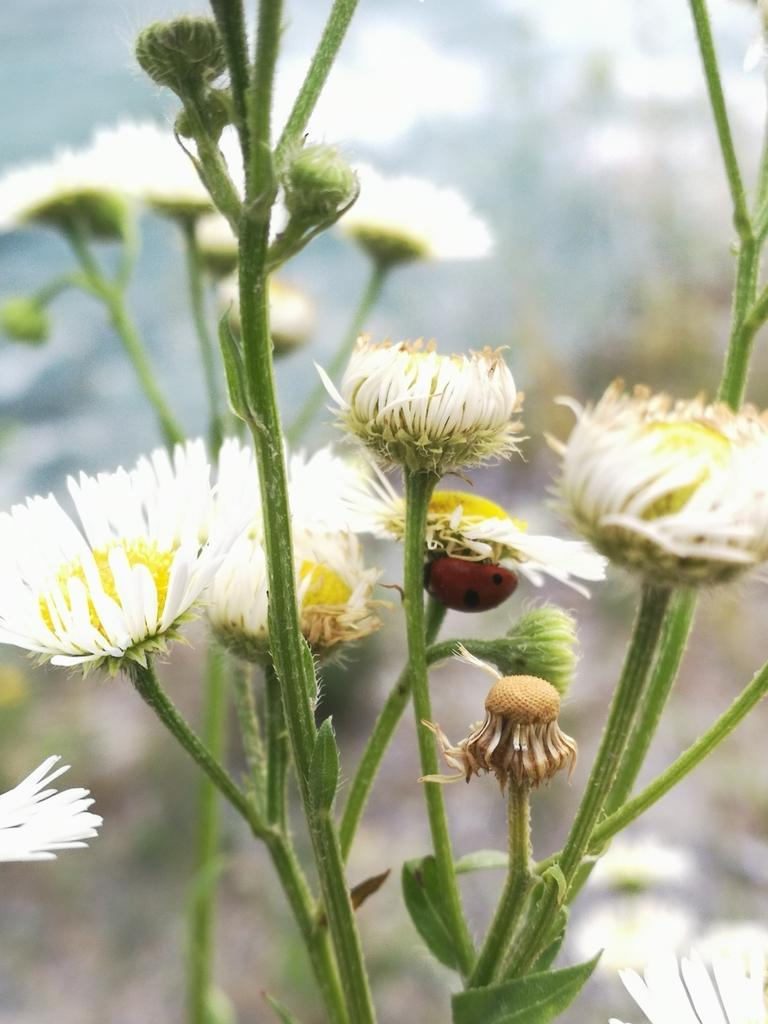ladybug: (423, 543, 523, 616)
